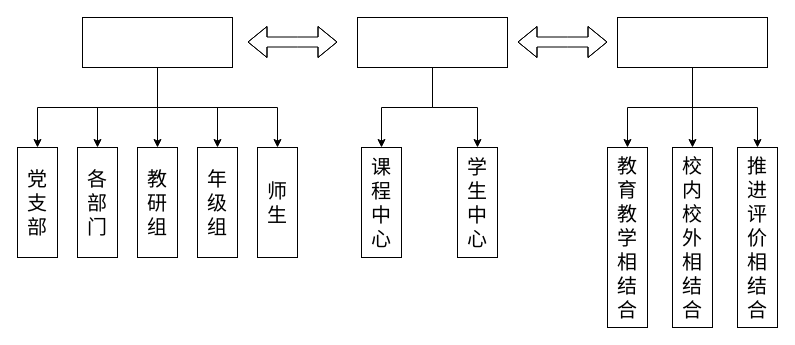
The diagram is 795 pixels wide and 345 high, and some of its shapes have lost their labels. Each missing label, with the centre of its shape:
"做到三结合" goes at (x=692, y=42).
"抓好两部门" goes at (x=432, y=42).
"贯彻一条线" goes at (x=157, y=42).
